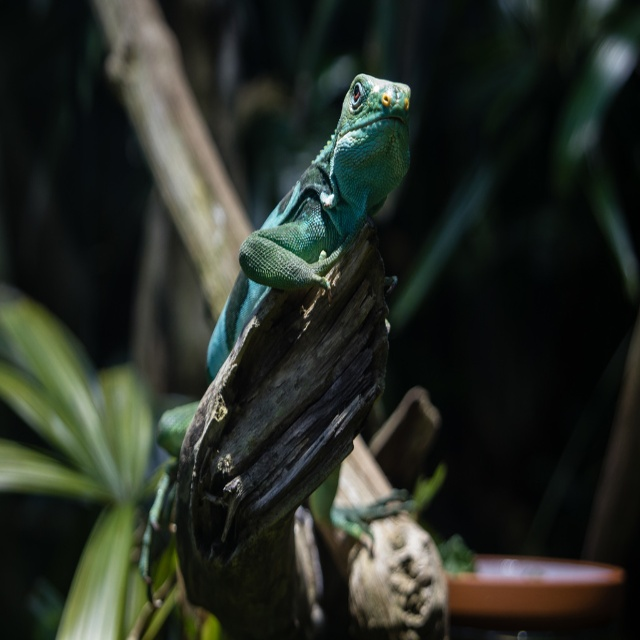Lizard: (167, 77, 428, 570)
